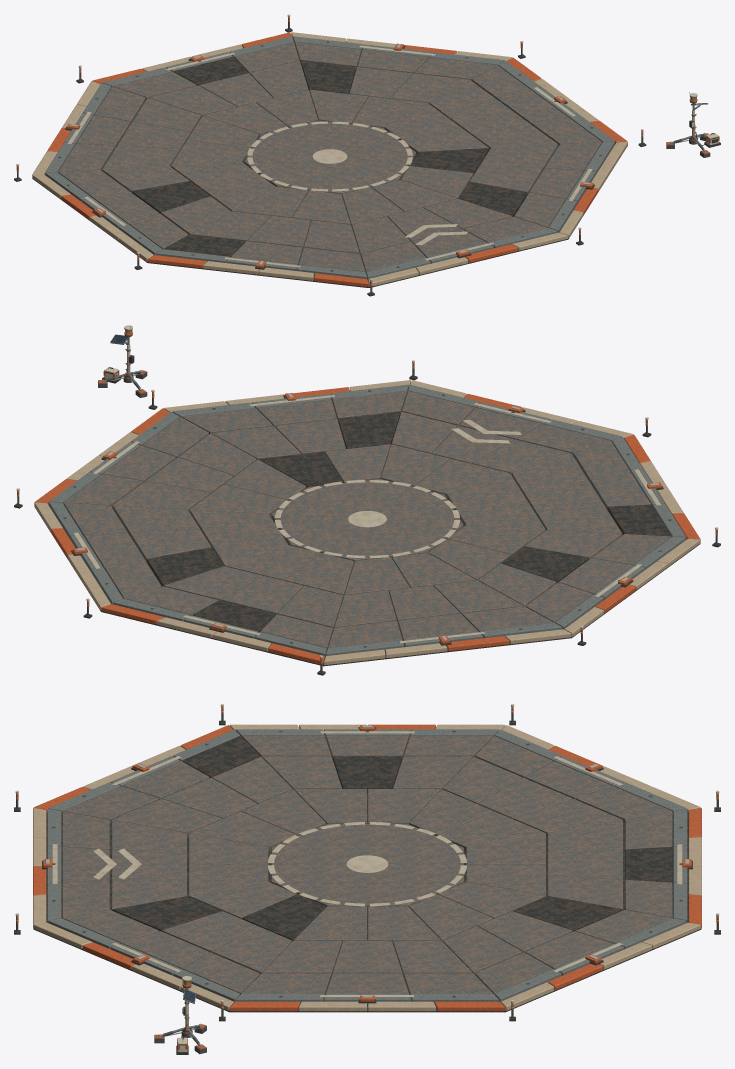
The model's file is landing_pad_and_beacon.glb.
3 views of the same model, one above another, from view 1: azimuth 30°, elevation 25°; view 2: azimuth 150°, elevation 25°; view 3: azimuth 270°, elevation 25° (orthographic). The views are drawn at different scales.
Visible parts, largest first — view 1: Sector_03_slate_panel, Sector_08_slate_panel, Sector_06_slate_panel, Sector_02_slate_panel, Sector_05_slate_panel, Sector_04_slate_panel, Sector_01_slate_panel, LandingPad_slate_panel, Sector_07_slate_panel, Sector_07_graphite, TouchdownMarkings_white_painted, Sector_05_alloy (+23 smaller); view 2: Sector_08_slate_panel, Sector_03_slate_panel, Sector_06_slate_panel, Sector_02_slate_panel, Sector_05_slate_panel, Sector_04_slate_panel, Sector_01_slate_panel, LandingPad_slate_panel, Sector_07_slate_panel, Sector_07_graphite, TouchdownMarkings_white_painted, Sector_03_warm_panel (+25 smaller); view 3: Sector_03_slate_panel, Sector_08_slate_panel, Sector_06_slate_panel, Sector_05_slate_panel, Sector_02_slate_panel, Sector_04_slate_panel, Sector_01_slate_panel, LandingPad_slate_panel, Sector_07_slate_panel, Sector_07_graphite, LandingPad_graphite, TouchdownMarkings_white_painted (+26 smaller).
Boxes of the visible parts, <box> form: Sector_03_slate_panel: <box>58,86,259,171</box>; Sector_08_slate_panel: <box>384,65,601,153</box>; Sector_06_slate_panel: <box>342,180,546,274</box>; Sector_02_slate_panel: <box>113,42,317,136</box>; Sector_05_slate_panel: <box>190,186,365,271</box>; Sector_04_slate_panel: <box>58,162,275,249</box>; Sector_01_slate_panel: <box>294,42,496,128</box>; LandingPad_slate_panel: <box>244,120,415,195</box>; Sector_07_slate_panel: <box>401,142,601,227</box>; Sector_07_graphite: <box>409,148,600,216</box>; TouchdownMarkings_white_painted: <box>247,121,467,245</box>; Sector_05_alloy: <box>155,249,366,278</box>; Sector_08_slate_panel: <box>64,417,306,516</box>; Sector_03_slate_panel: <box>328,553,553,648</box>; Sector_06_slate_panel: <box>381,391,610,497</box>; Sector_02_slate_panel: <box>124,545,353,651</box>; Sector_05_slate_panel: <box>446,440,650,535</box>; Sector_04_slate_panel: <box>428,525,671,622</box>; Sector_01_slate_panel: <box>63,502,287,598</box>; LandingPad_slate_panel: <box>271,479,463,563</box>; Sector_07_slate_panel: <box>181,391,406,482</box>; Sector_07_graphite: <box>213,391,400,488</box>; TouchdownMarkings_white_painted: <box>275,419,521,558</box>; Sector_03_warm_panel: <box>324,629,571,665</box>; Sector_03_slate_panel: <box>409,736,671,851</box>; Sector_08_slate_panel: <box>242,906,492,994</box>; Sector_06_slate_panel: <box>62,811,268,918</box>; Sector_05_slate_panel: <box>63,756,325,851</box>; Sector_02_slate_panel: <box>466,811,672,918</box>; Sector_04_slate_panel: <box>241,735,493,824</box>; Sector_01_slate_panel: <box>409,882,671,994</box>; LandingPad_slate_panel: <box>271,823,463,909</box>; Sector_07_slate_panel: <box>63,882,296,994</box>; Sector_07_graphite: <box>84,894,325,983</box>; LandingPad_graphite: <box>33,727,701,1012</box>; TouchdownMarkings_white_painted: <box>93,822,466,906</box>.
Bounding box in the file's own units: 21.16 × 1.98 × 19.
Materials: 13 (11 with a texture image).
